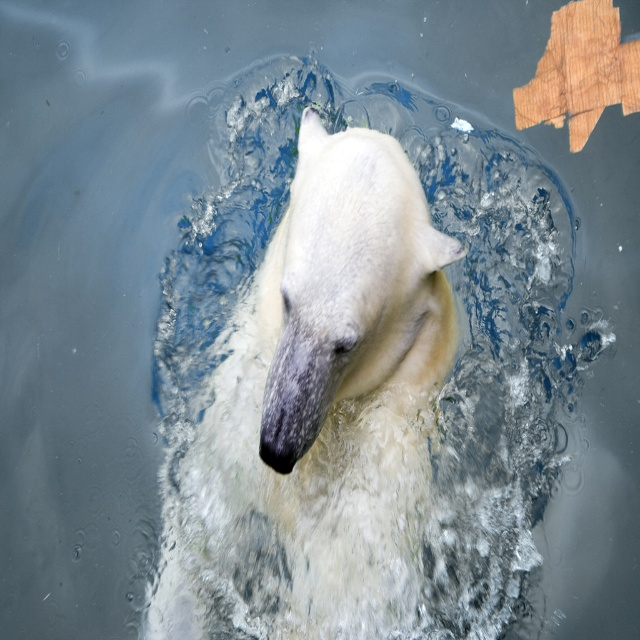Polar bear: (137, 108, 460, 639)
